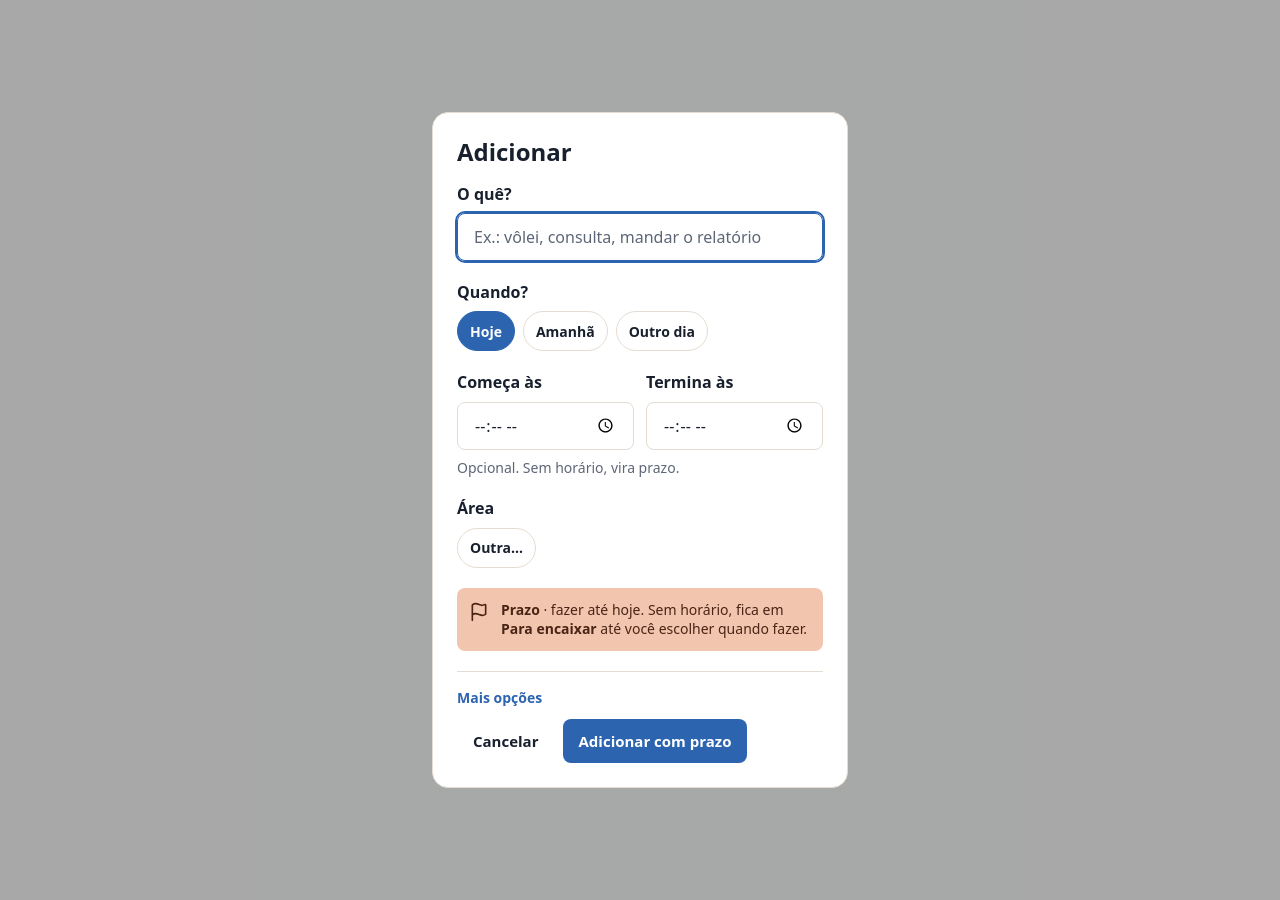
Test case: QuickAddDialog › com horário, cria um compromisso no dia escolhido
The image size is (1280, 900).
Later steps or results of the test are not shown.
Type "Vôlei" into the field labelled "O quê?" at (640, 237), box [457,213,823,261]
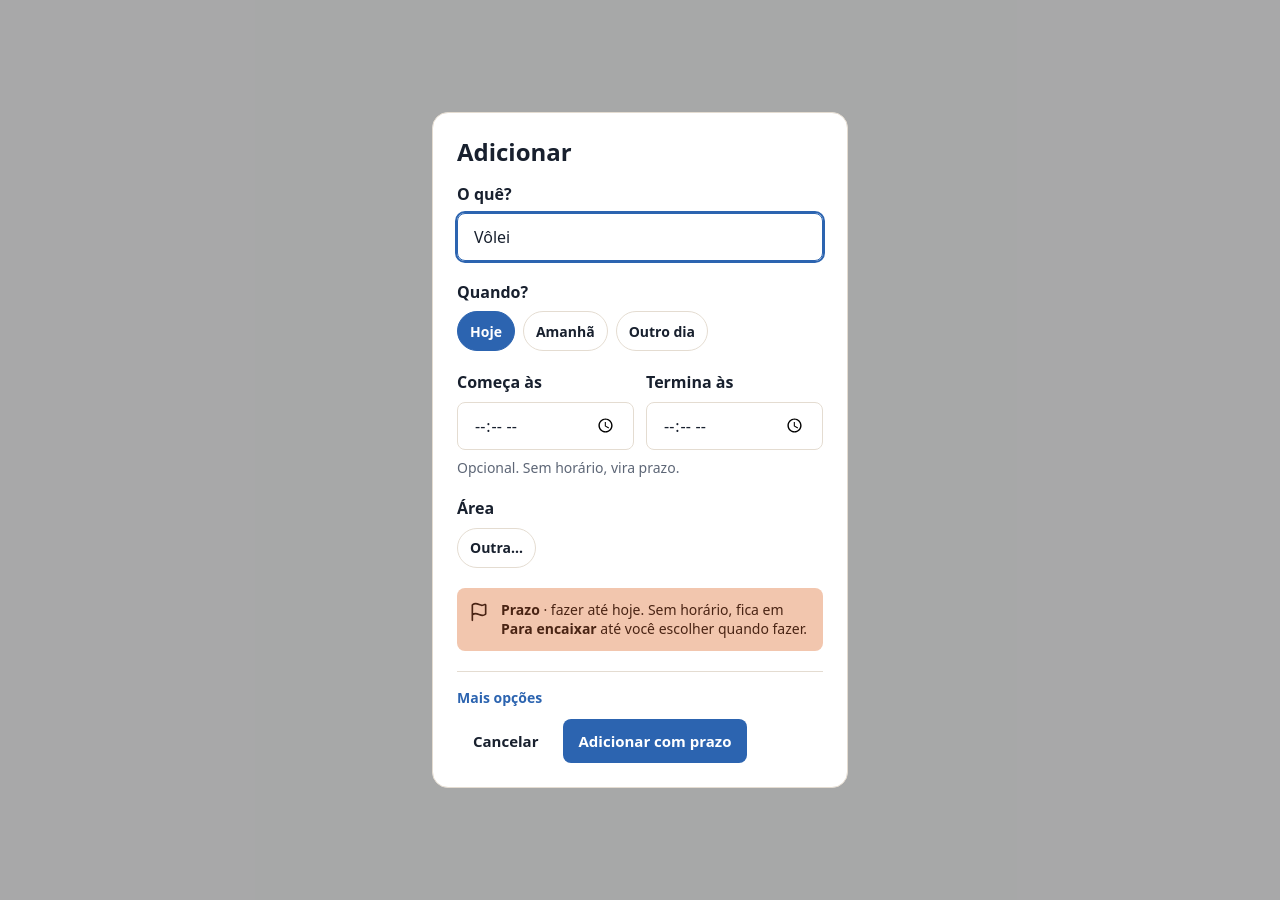
Click the radio button labelled "Amanhã" at (565, 331), box [523,311,608,351]
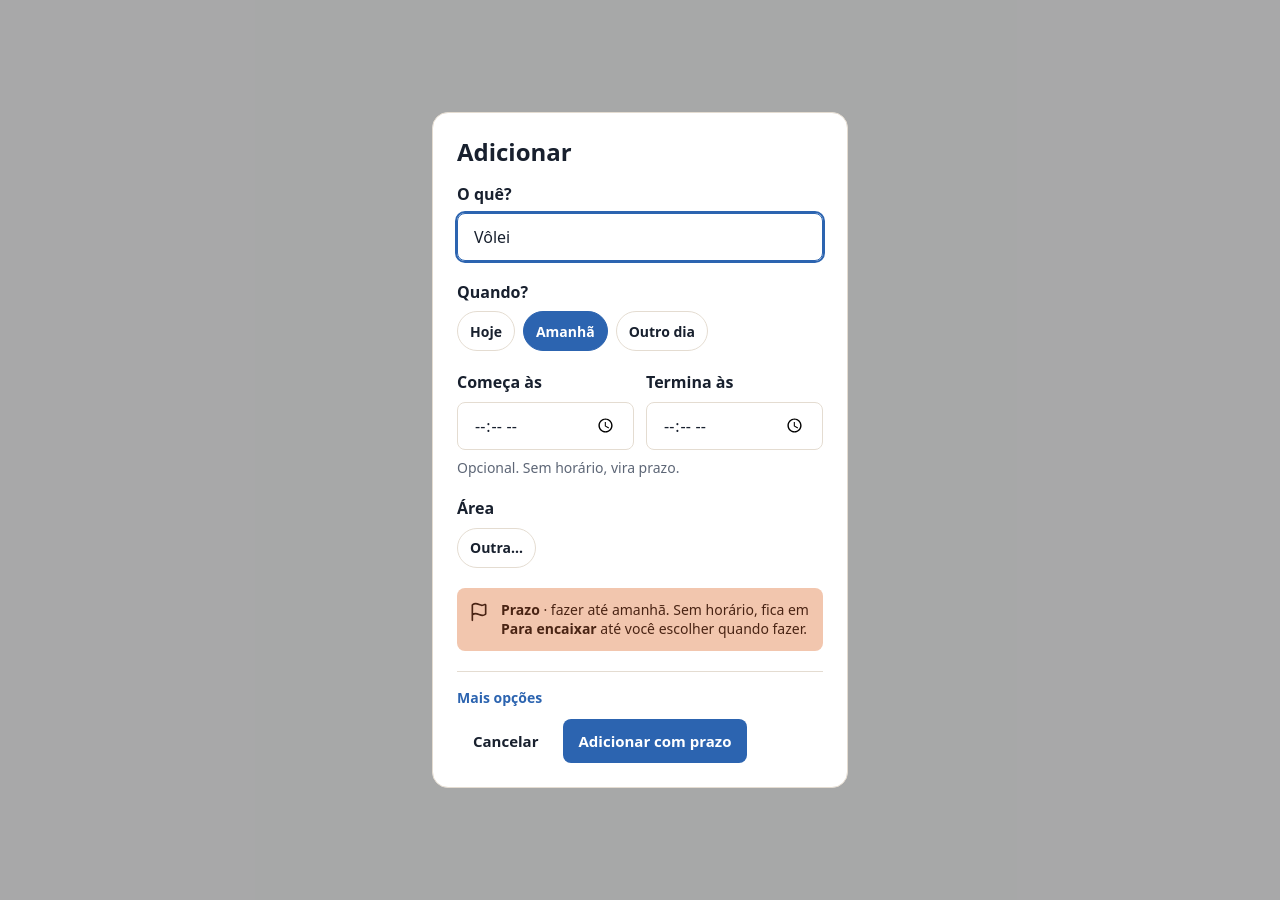
Type "16:00" into the time field labelled "Começa às" at (546, 426), box [457,402,634,450]
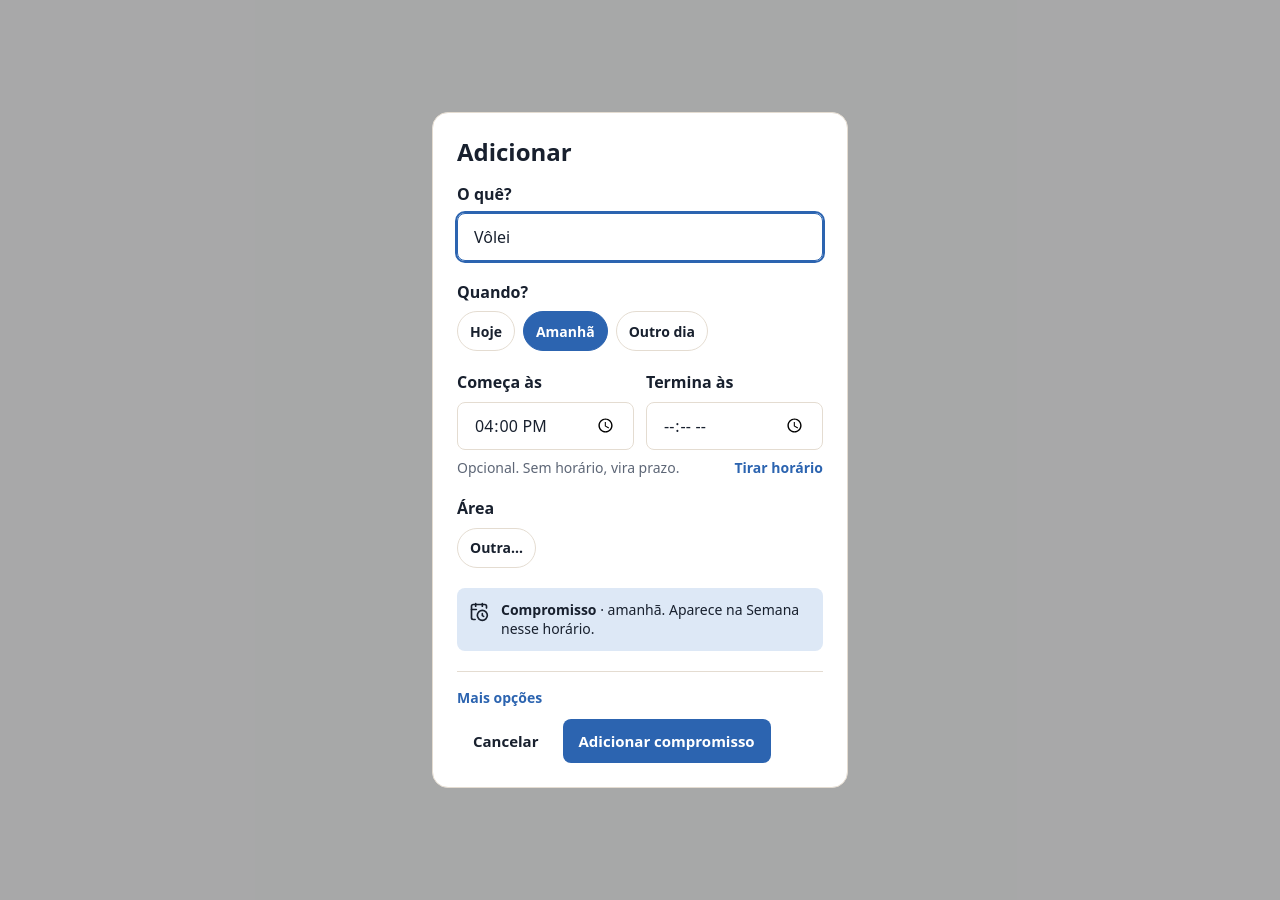
Type "18:00" into the time field labelled "Termina às" at (734, 426), box [646,402,823,450]
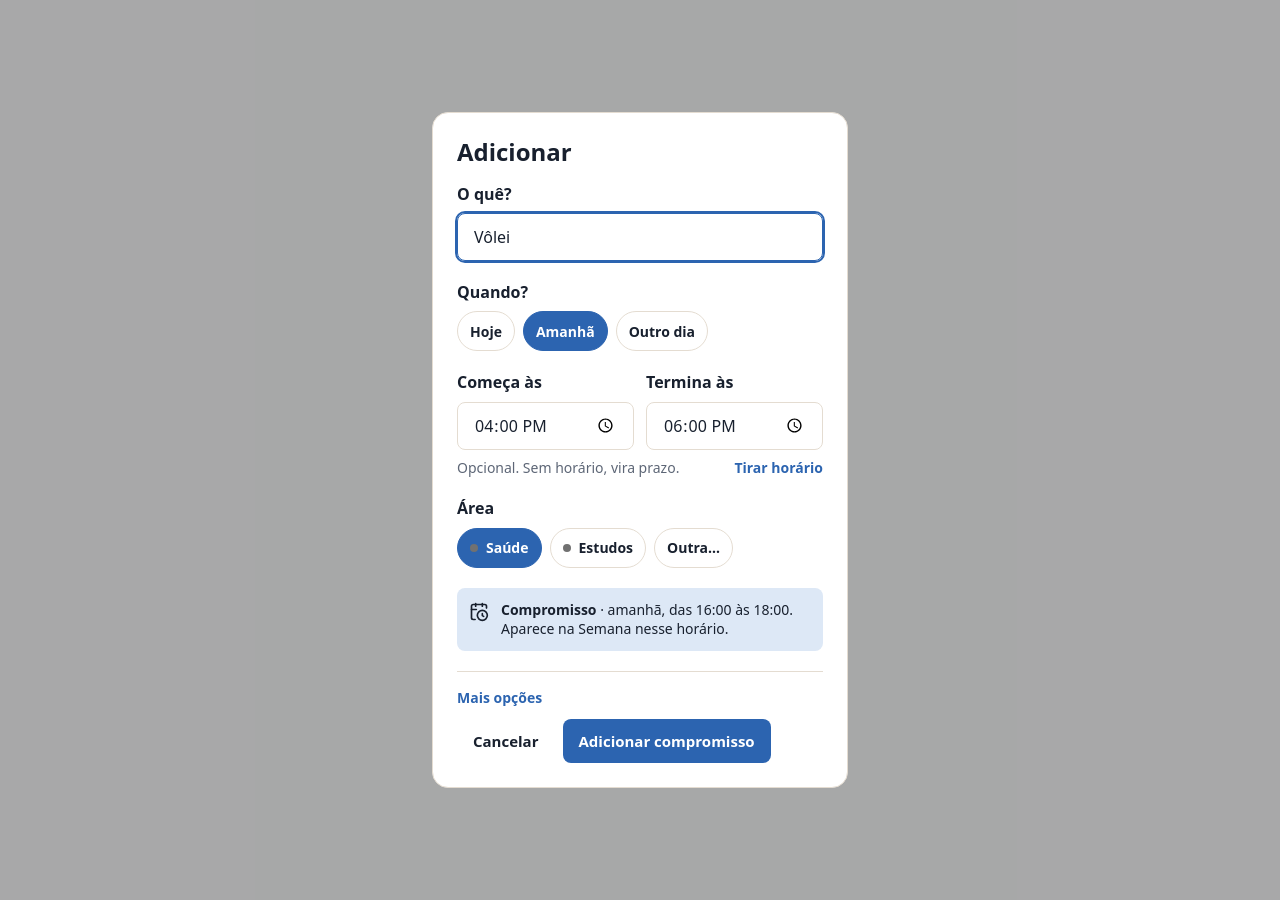
Click the radio button labelled "Saúde" at (499, 548), box [457,528,542,568]
Expected: the text "amanhã, das 16:00 às 18:00" is shown, [501,600,811,639]
